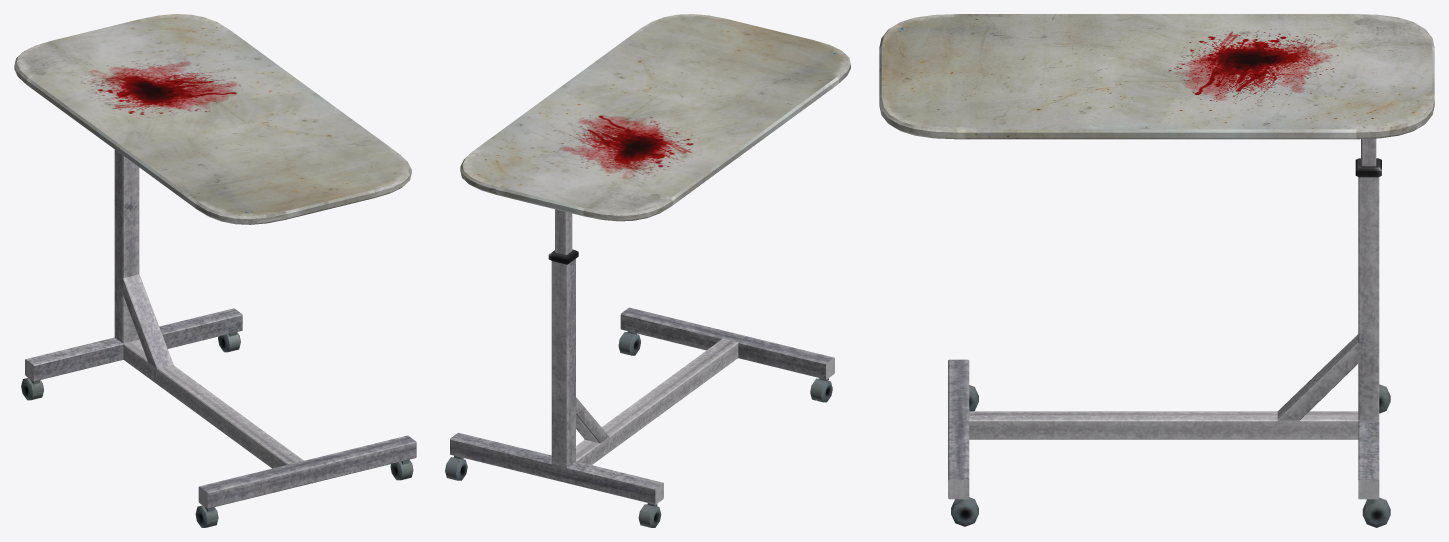
The model's file is medicalTable.fbx.
3 views of the same model, side by side, from view 1: azimuth 30°, elevation 25°; view 2: azimuth 150°, elevation 25°; view 3: azimuth 270°, elevation 25° (orthographic). The views are drawn at different scales.
Parts seen in each view (by area): view 1: Box141; view 2: Box141; view 3: Box141.
Boxes of the visible parts, bbox=[...] form: Box141: bbox=[14, 14, 416, 527]; Box141: bbox=[445, 14, 850, 527]; Box141: bbox=[879, 14, 1434, 527].
Size of the model in its own units: 136 by 197 by 254.
